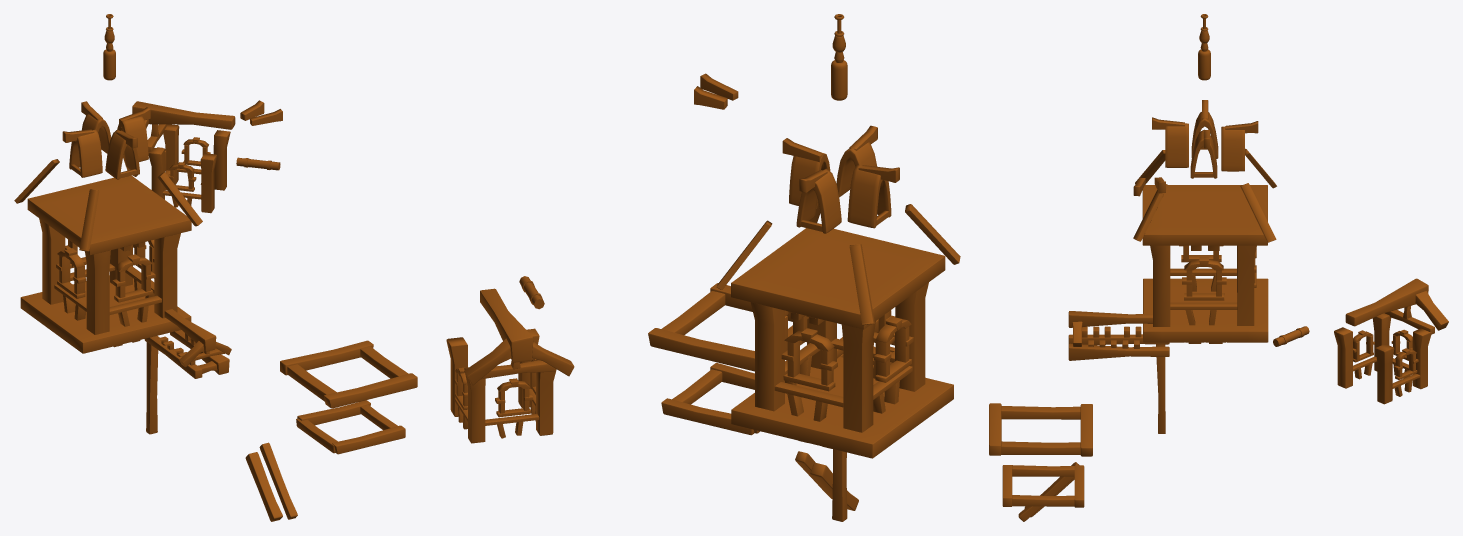
File: wood.fbx
3 renders of one model, left to right at view 1: azimuth 30°, elevation 25°; view 2: azimuth 150°, elevation 25°; view 3: azimuth 270°, elevation 25°, orthographic. The views are drawn at different scales.
Parts seen in each view (by area): view 1: Wood; view 2: Wood; view 3: Wood.
Boxes of the visible parts, x1,y1,x2,y2 form: Wood: (14,14,417,521); Wood: (446,14,960,521); Wood: (989,14,1448,521).
Size of the model in its own units: 1673 by 2710 by 2447.
